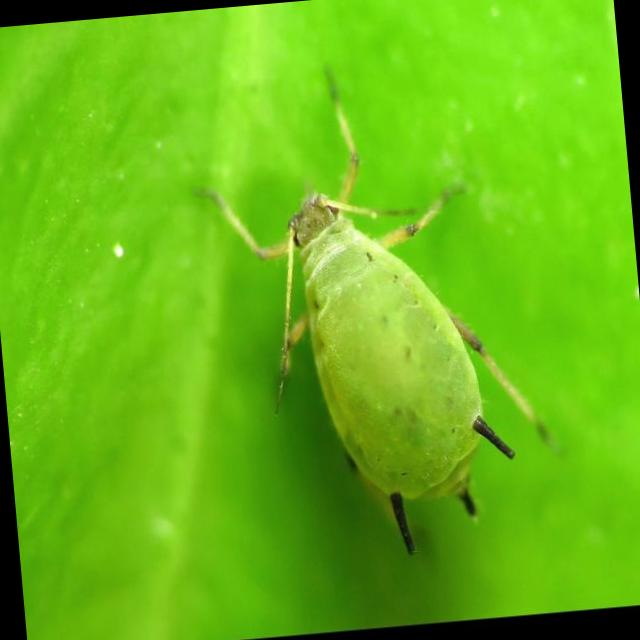aphid: (206, 117, 570, 571)
